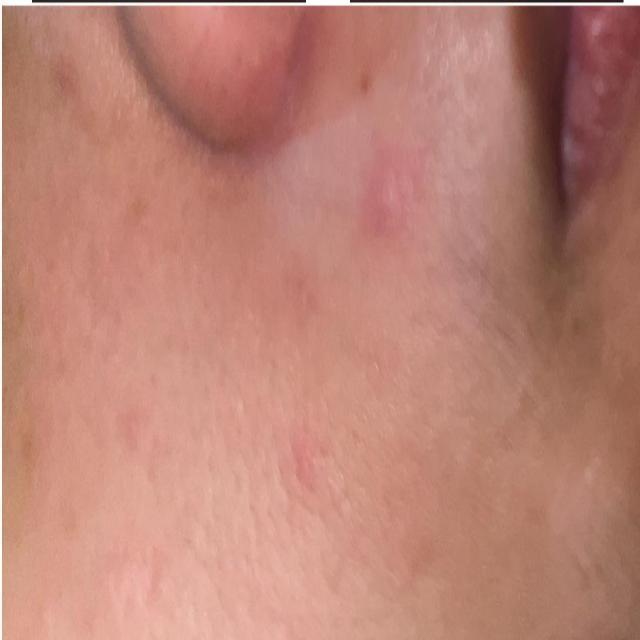papule: (352, 137, 427, 264)
